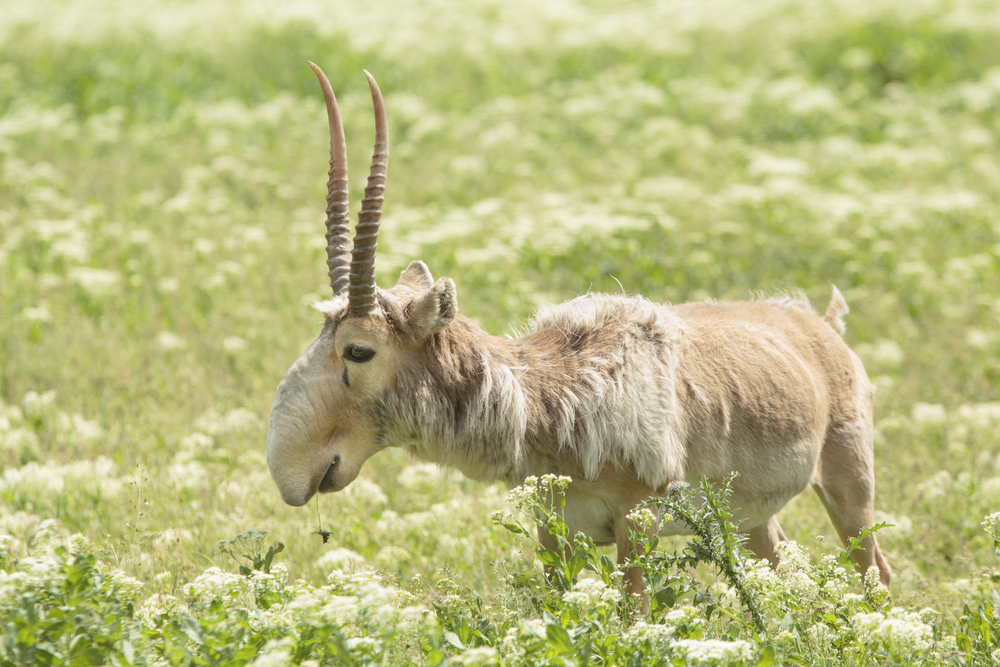saiga: (267, 60, 893, 604)
